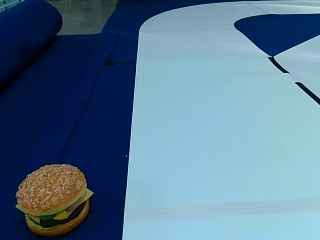burger: (16, 161, 92, 234)
